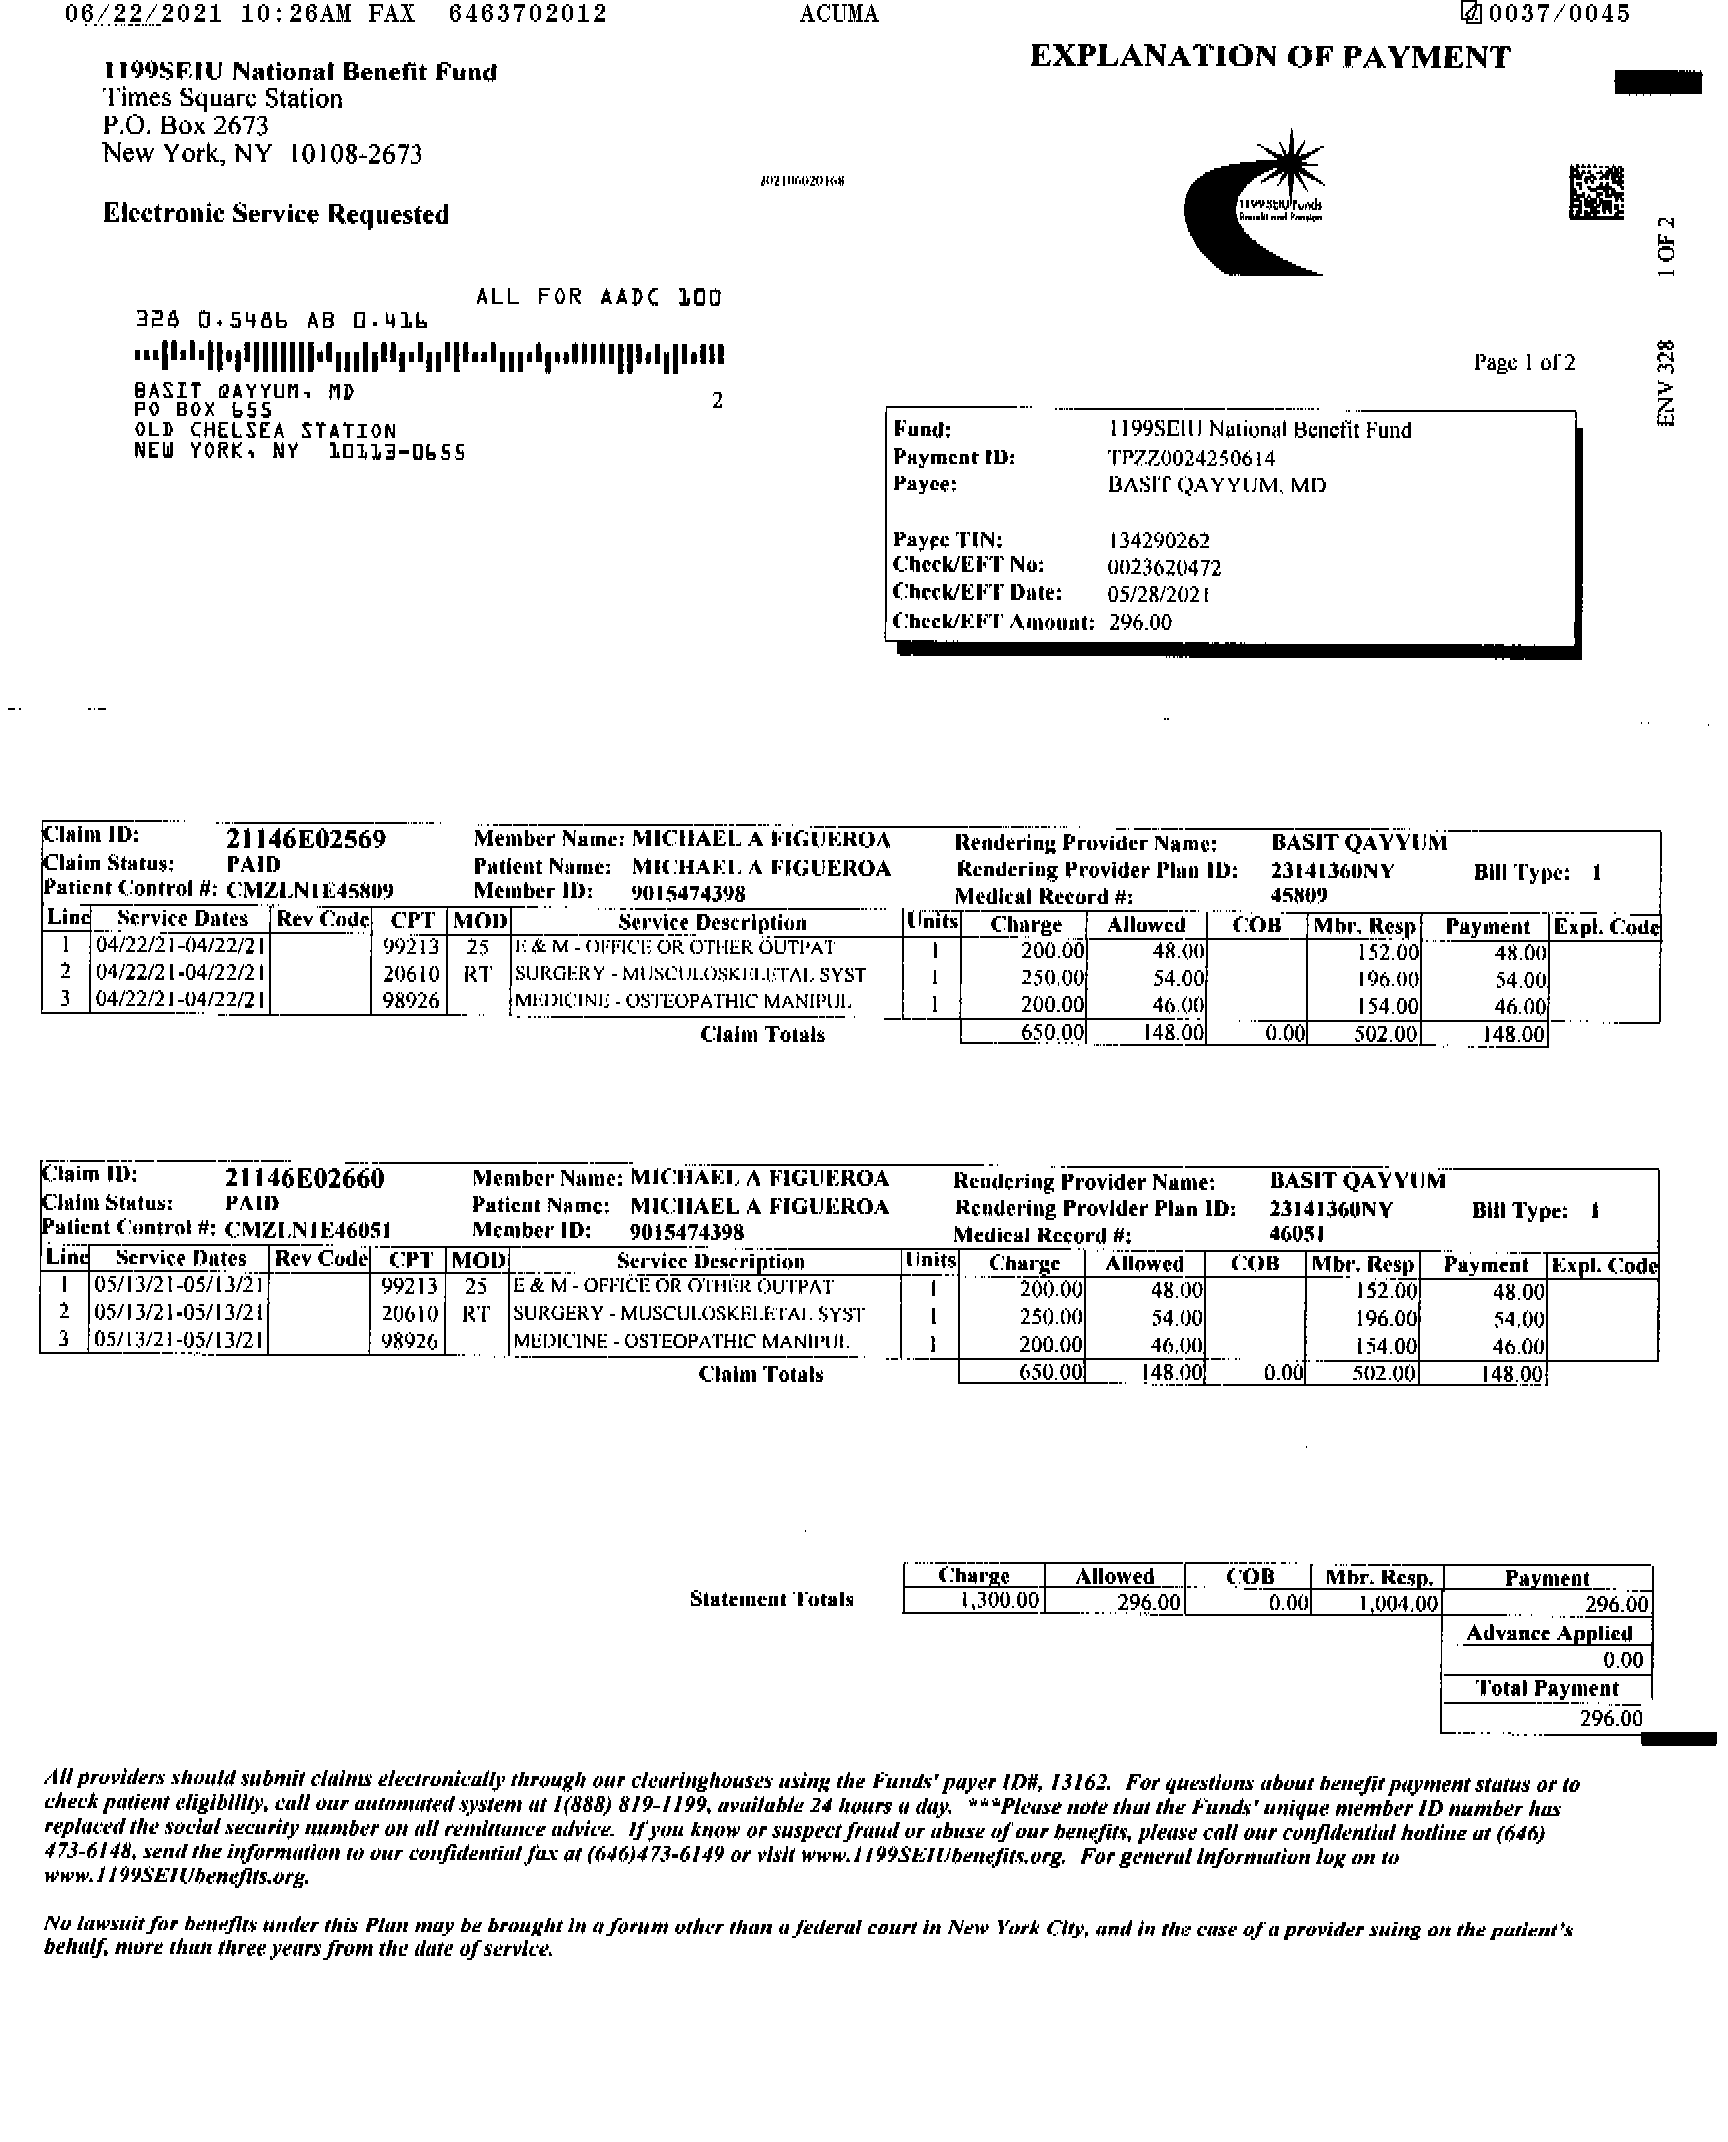data: (859, 383, 1619, 688), (26, 804, 1679, 913), (34, 1149, 1682, 1246)
table: (26, 1241, 1666, 1396), (34, 897, 1666, 1052)
